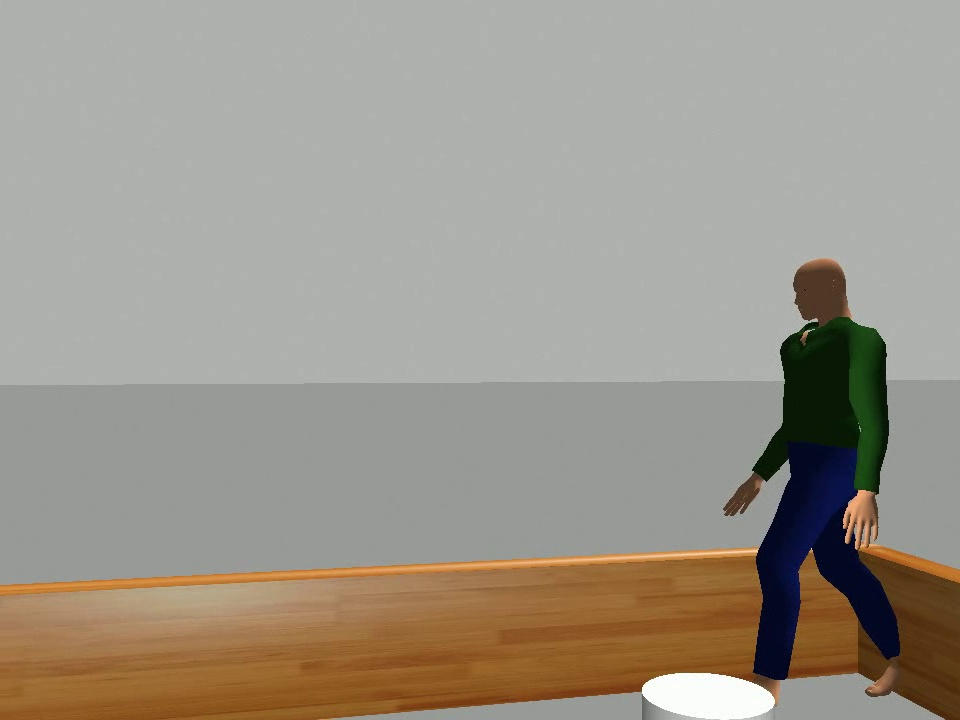person: (720, 256, 911, 700)
